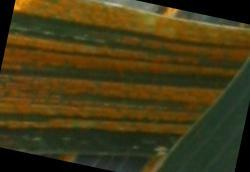Wheat: (19, 2, 150, 135), (153, 15, 201, 106), (208, 22, 243, 64), (156, 107, 185, 131)
